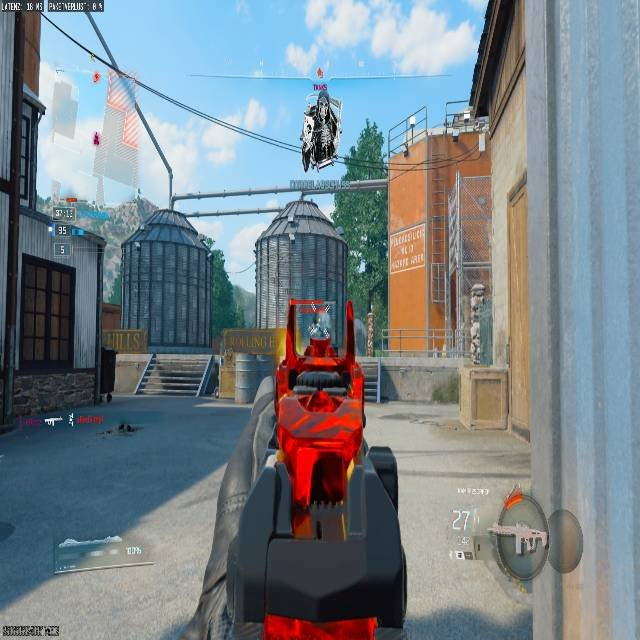player: (137, 349, 160, 396), (308, 317, 328, 342)
